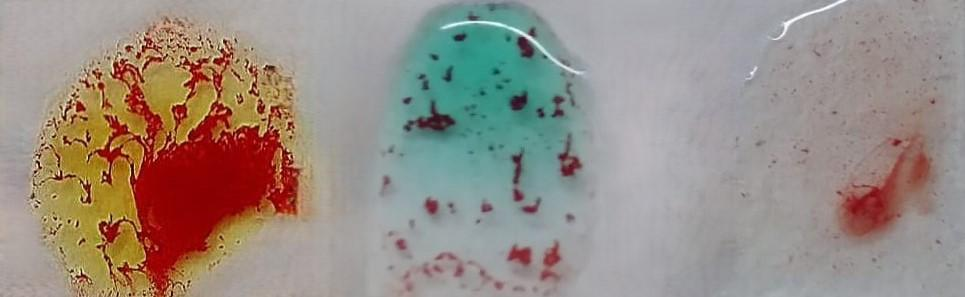A: (385, 13, 595, 297)
B: (23, 20, 304, 297)
D: (752, 15, 962, 297)
